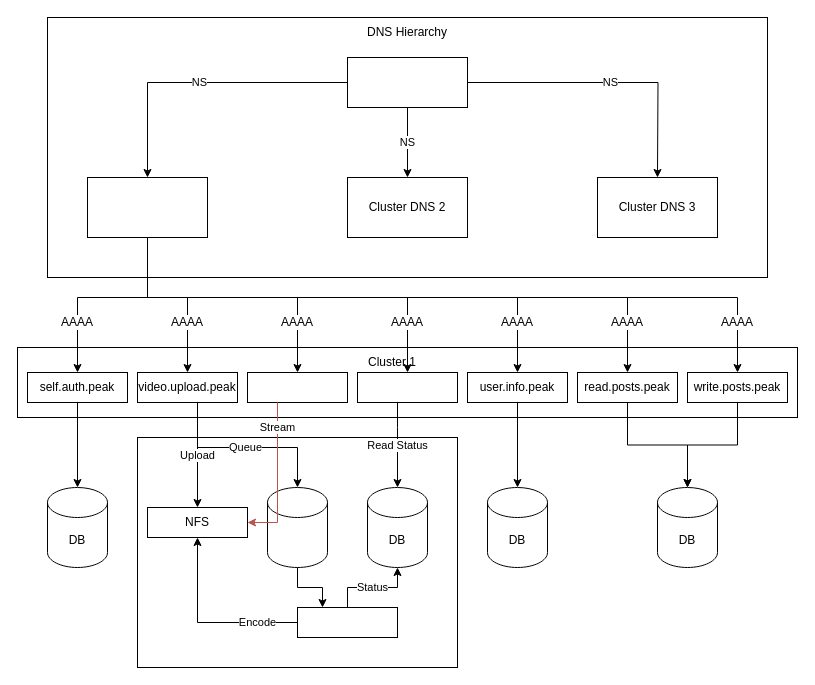
This 815x685 diagram has some shape labels left out. Each missing label, with the centre of its shape:
"Cluster DNS 1" belongs at (147,207).
"Encoding service" belongs at (347,622).
"RabbitMQ" belongs at (297,527).
"SOA DNS" belongs at (407,82).
"video.status.peak" belongs at (407,387).
"video.stream.peak" belongs at (297,387).
